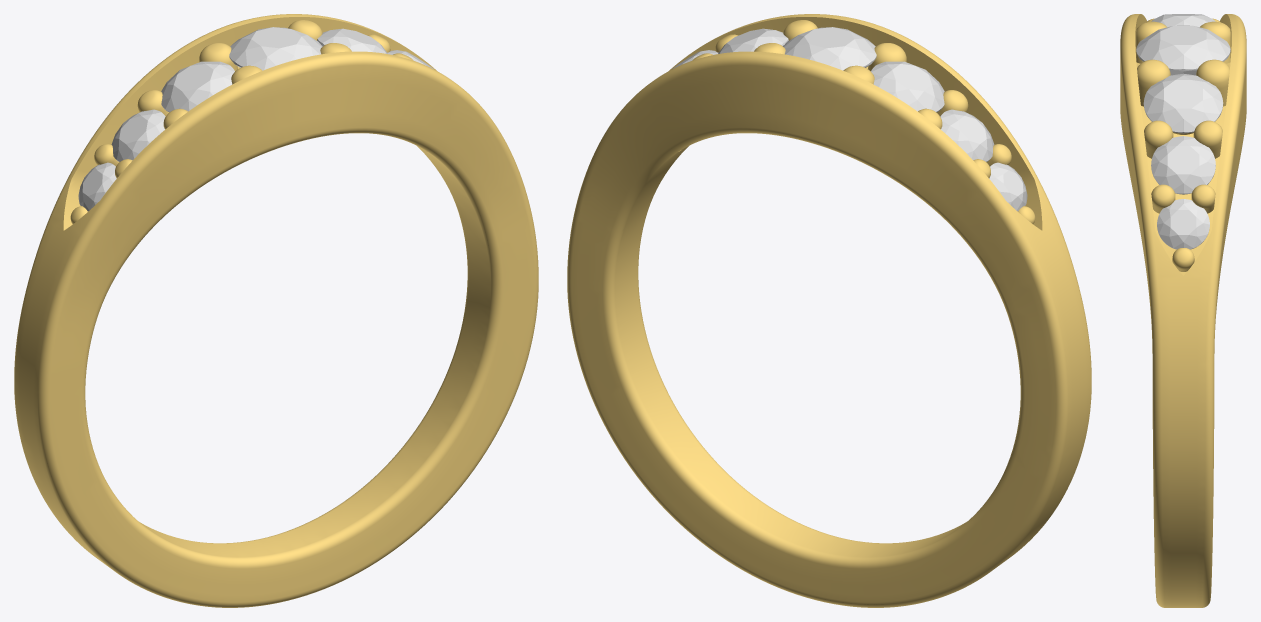
File: MDH_7_Stone_blender.glb
The picture shows the model from 3 angles, left to right: view 1: azimuth 30°, elevation 25°; view 2: azimuth 150°, elevation 25°; view 3: azimuth 270°, elevation 25°; orthographic projection.
Visible parts, largest first — view 1: MDH YG for 3d model, MDH dia for 3d model.006, MDH dia for 3d model.003, MDH dia for 3d model.002, MDH dia for 3d model.001, MDH dia for 3d model.005; view 2: MDH YG for 3d model, MDH dia for 3d model.006, MDH dia for 3d model.003, MDH dia for 3d model.002, MDH dia for 3d model.001, MDH dia for 3d model.005; view 3: MDH YG for 3d model, MDH dia for 3d model.005, MDH dia for 3d model.006, MDH dia for 3d model, MDH dia for 3d model.004, MDH dia for 3d model.003.
Boxes of the visible parts, left/top/right/bottom form: MDH YG for 3d model: left=14, top=14, right=538, bottom=607; MDH dia for 3d model.006: left=229, top=27, right=322, bottom=70; MDH dia for 3d model.003: left=161, top=61, right=234, bottom=112; MDH dia for 3d model.002: left=111, top=109, right=165, bottom=161; MDH dia for 3d model.001: left=78, top=162, right=116, bottom=211; MDH dia for 3d model.005: left=317, top=28, right=387, bottom=53; MDH YG for 3d model: left=567, top=14, right=1091, bottom=607; MDH dia for 3d model.006: left=783, top=27, right=876, bottom=70; MDH dia for 3d model.003: left=871, top=61, right=944, bottom=112; MDH dia for 3d model.002: left=940, top=109, right=994, bottom=161; MDH dia for 3d model.001: left=989, top=162, right=1027, bottom=211; MDH dia for 3d model.005: left=718, top=28, right=788, bottom=53; MDH YG for 3d model: left=1120, top=14, right=1246, bottom=607; MDH dia for 3d model.005: left=1143, top=73, right=1223, bottom=133; MDH dia for 3d model.006: left=1136, top=25, right=1230, bottom=75; MDH dia for 3d model: left=1151, top=136, right=1215, bottom=194; MDH dia for 3d model.004: left=1157, top=199, right=1209, bottom=249; MDH dia for 3d model.003: left=1151, top=14, right=1215, bottom=27.
Size of the model in its own units: 19.28 by 20.48 by 4.3.
